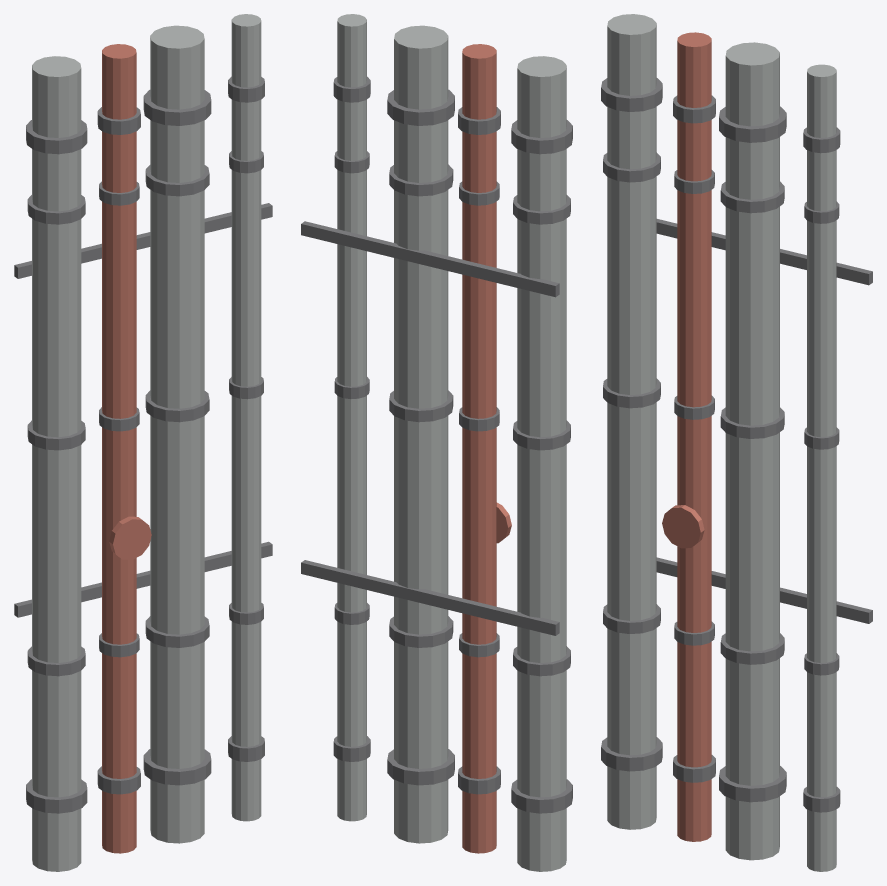
File: dm_wallpiperun.glb
3 renders of one model, left to right at view 1: azimuth 30°, elevation 25°; view 2: azimuth 150°, elevation 25°; view 3: azimuth 330°, elevation 25°, orthographic.
Parts seen in each view (by area): view 1: dm_wallpiperun; view 2: dm_wallpiperun; view 3: dm_wallpiperun.
Part boxes in pixels (bbox=[...]): dm_wallpiperun: bbox=[14, 14, 272, 871]; dm_wallpiperun: bbox=[301, 14, 572, 871]; dm_wallpiperun: bbox=[601, 14, 872, 871].
Size of the model in its own units: 1.18 by 3.52 by 0.275.
